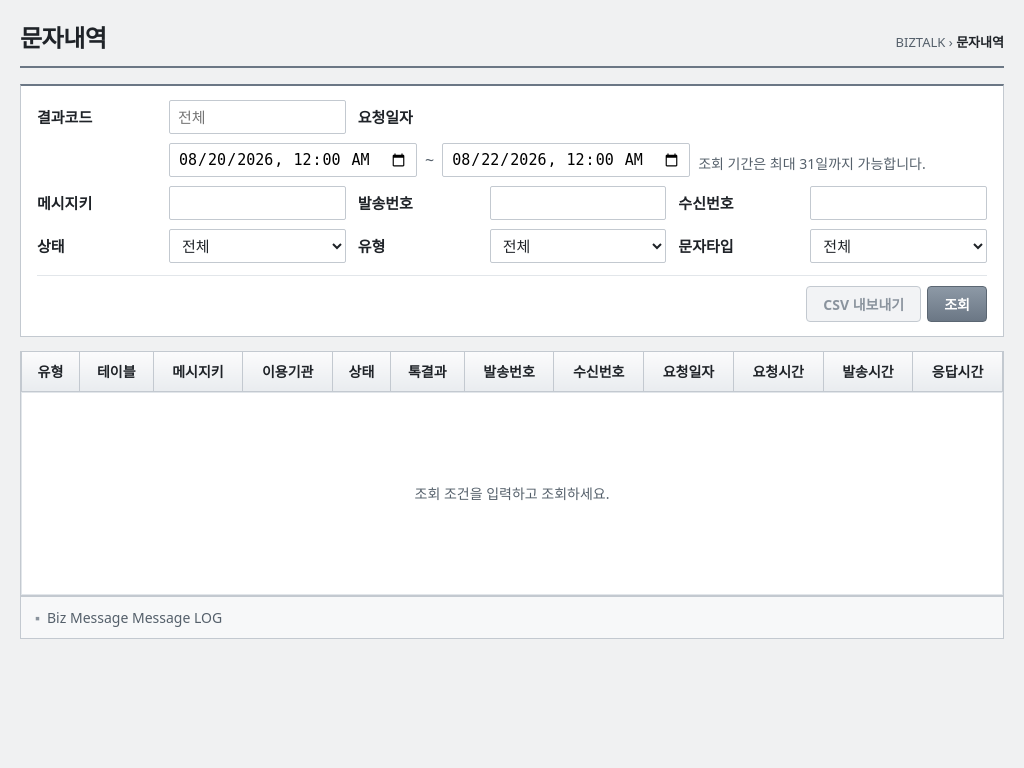
Test case: MessageHistoryPage › 조회 조건 위반을 전부 표시한다 / shows every criteria violation
Click the button "조회": click(957, 304) [927,286,987,322]
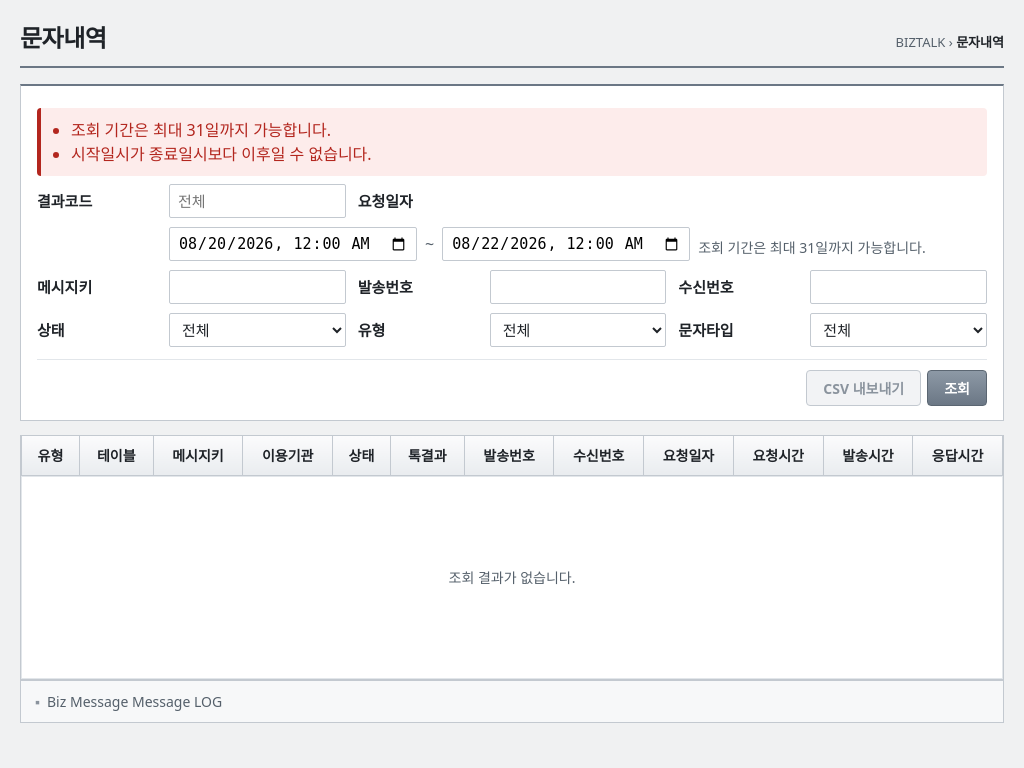
Result: the message "조회 기간은 최대 31일까지 가능합니다. 시작일시가 종료일시보다 이후일 수 없습니다." is shown at [37,108,987,176]
Result: the list item "조회 기간은 최대 31일까지 가능합니다." is shown at [71,119,331,141]
Result: the list item "시작일시가 종료일시보다 이후일 수 없습니다." is shown at [71,143,372,165]
